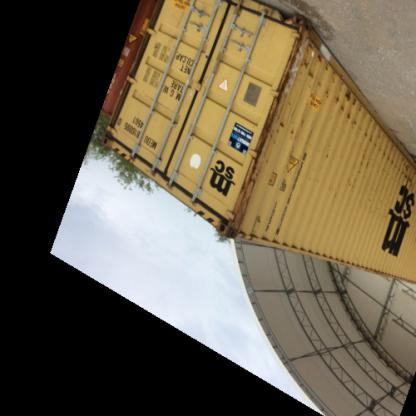Damage: (223, 115, 278, 238), (268, 20, 316, 121), (348, 124, 414, 182), (310, 80, 370, 122), (262, 117, 315, 146)
